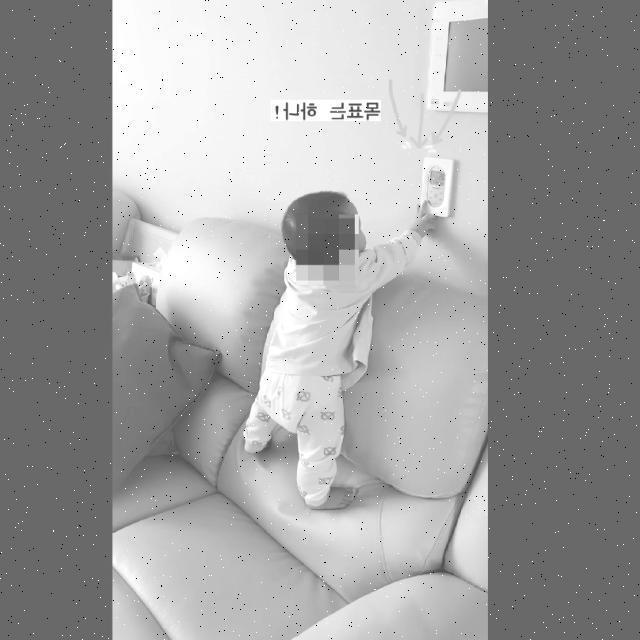child: (243, 193, 437, 515)
